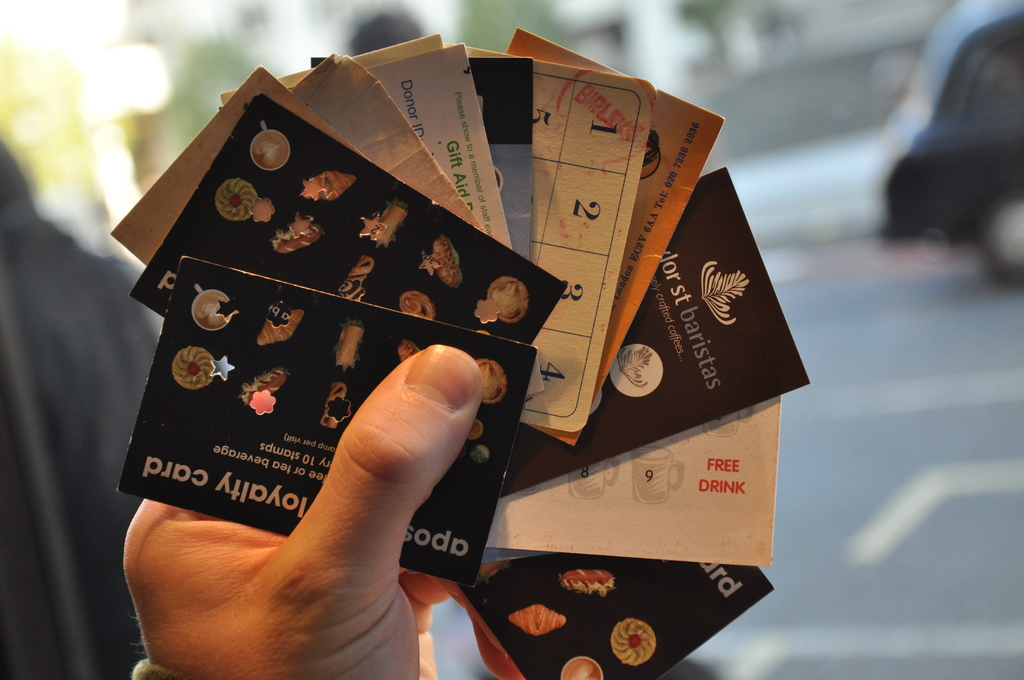Human_hand: (156, 337, 527, 670)
